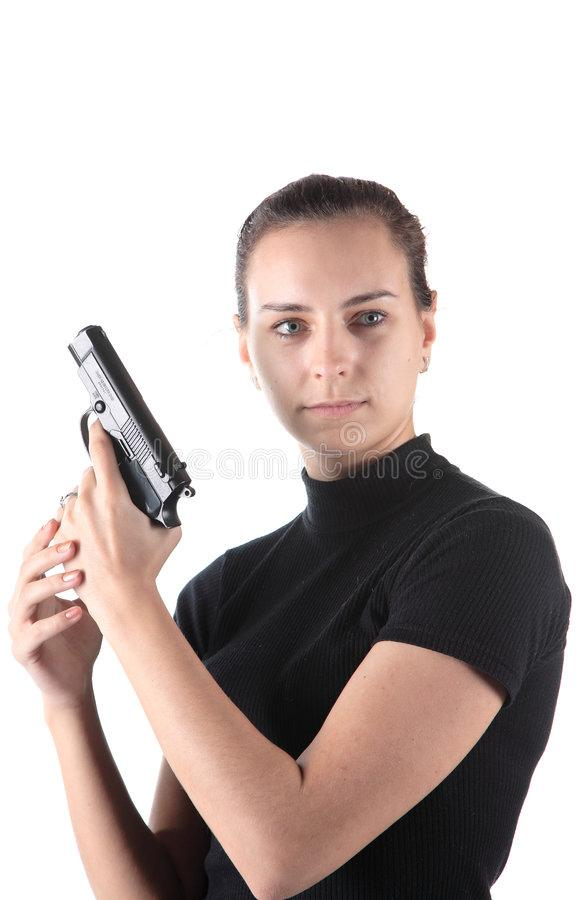criminal: (9, 164, 578, 900)
weapon: (64, 318, 201, 537)
